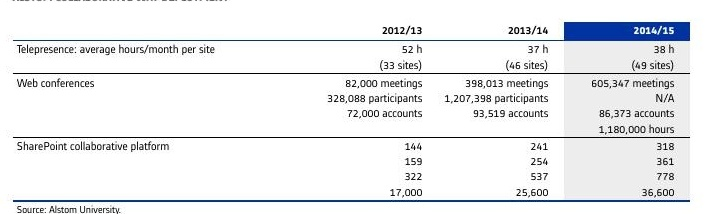table: (0, 0, 708, 214)
